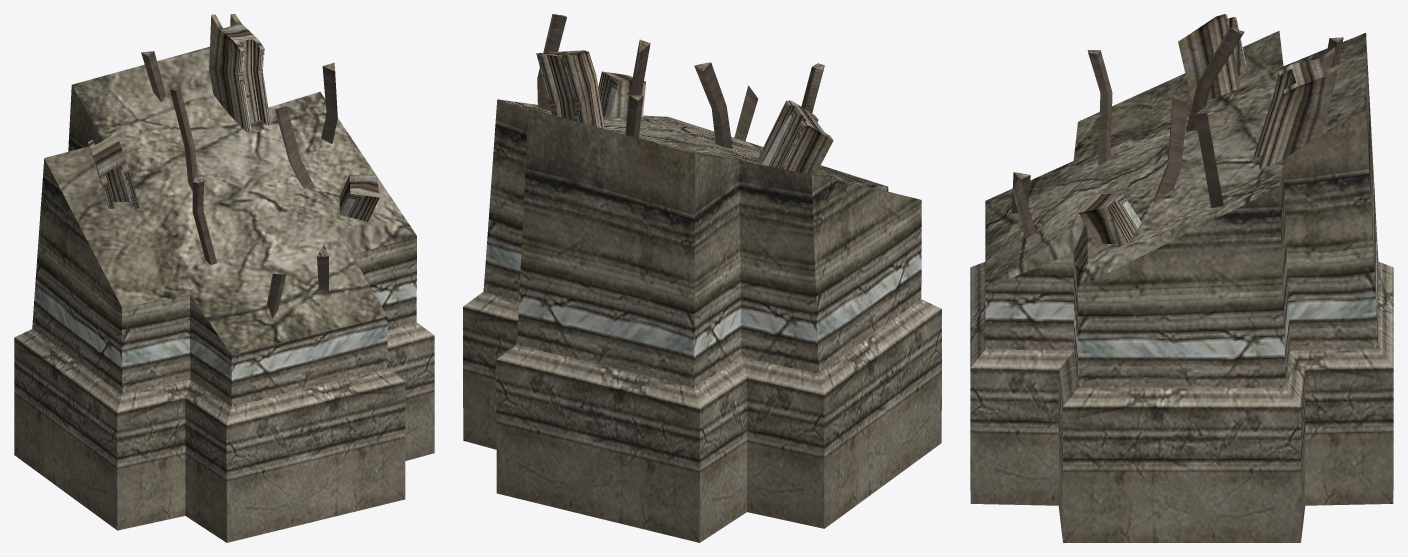
File: SM_Plains_Column_Large_Broken_02.FBX
3 views of the same model, side by side, from view 1: azimuth 30°, elevation 25°; view 2: azimuth 150°, elevation 25°; view 3: azimuth 270°, elevation 25° (orthographic). The views are drawn at different scales.
Parts seen in each view (by area): view 1: SM_Plains_Column_Large_Broken_02; view 2: SM_Plains_Column_Large_Broken_02; view 3: SM_Plains_Column_Large_Broken_02.
Boxes of the visible parts, bbox=[...] form: SM_Plains_Column_Large_Broken_02: bbox=[14, 14, 434, 542]; SM_Plains_Column_Large_Broken_02: bbox=[463, 14, 941, 542]; SM_Plains_Column_Large_Broken_02: bbox=[970, 14, 1393, 542].
Size of the model in its own units: 86.45 by 98.38 by 86.45.
